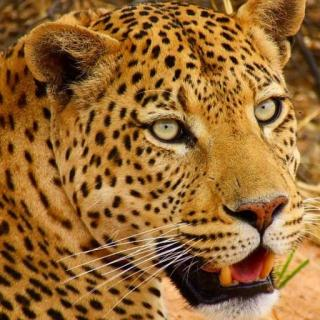-: (31, 10, 319, 320)
